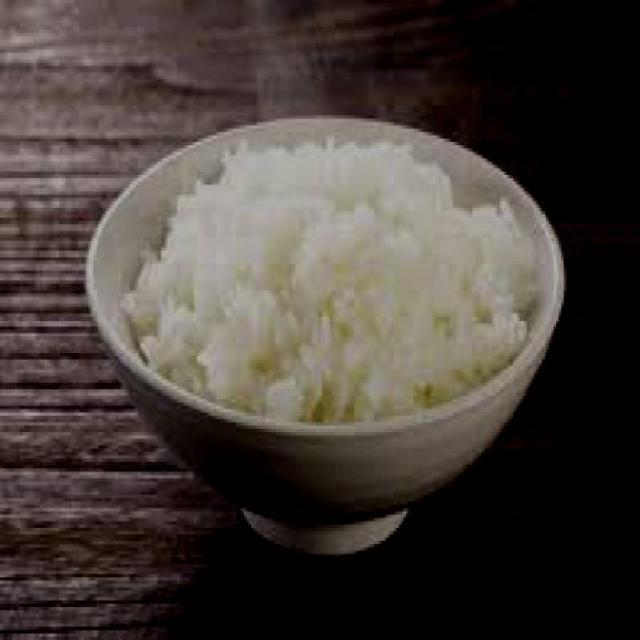Chicken -Chicken Inasal-: (133, 145, 536, 421)
